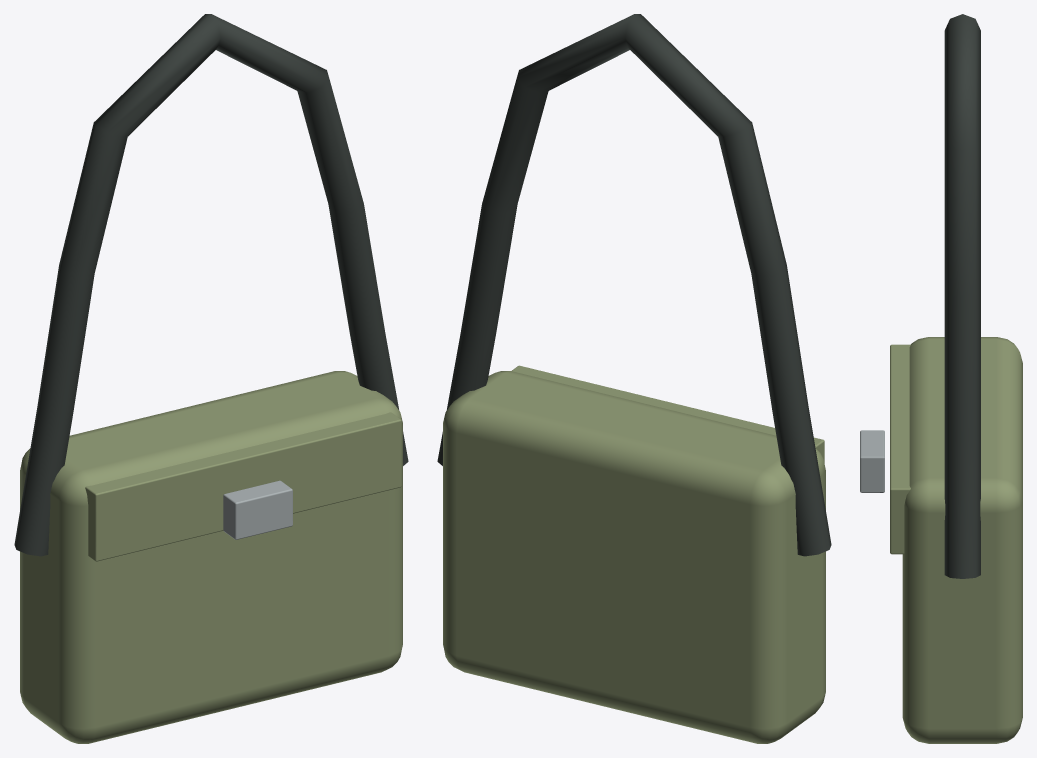
File: backpacks-and-expedition-storage-messenger-bag-933394c7__21082.glb
3 views of the same model, side by side, from view 1: azimuth 30°, elevation 25°; view 2: azimuth 150°, elevation 25°; view 3: azimuth 270°, elevation 25° (orthographic). The views are drawn at different scales.
Visible parts, largest first — view 1: messenger-bag, flap/canvas; view 2: messenger-bag, flap/canvas; view 3: messenger-bag, flap/canvas.
Boxes of the visible parts, box(x1,y1,x2,y2) form: messenger-bag: box(14, 14, 408, 743); flap/canvas: box(85, 412, 401, 561); messenger-bag: box(437, 14, 831, 743); flap/canvas: box(512, 365, 824, 462); messenger-bag: box(860, 14, 1022, 743); flap/canvas: box(890, 344, 910, 554).
Size of the model in its own units: 0.4352 by 0.7243 by 0.1625.
